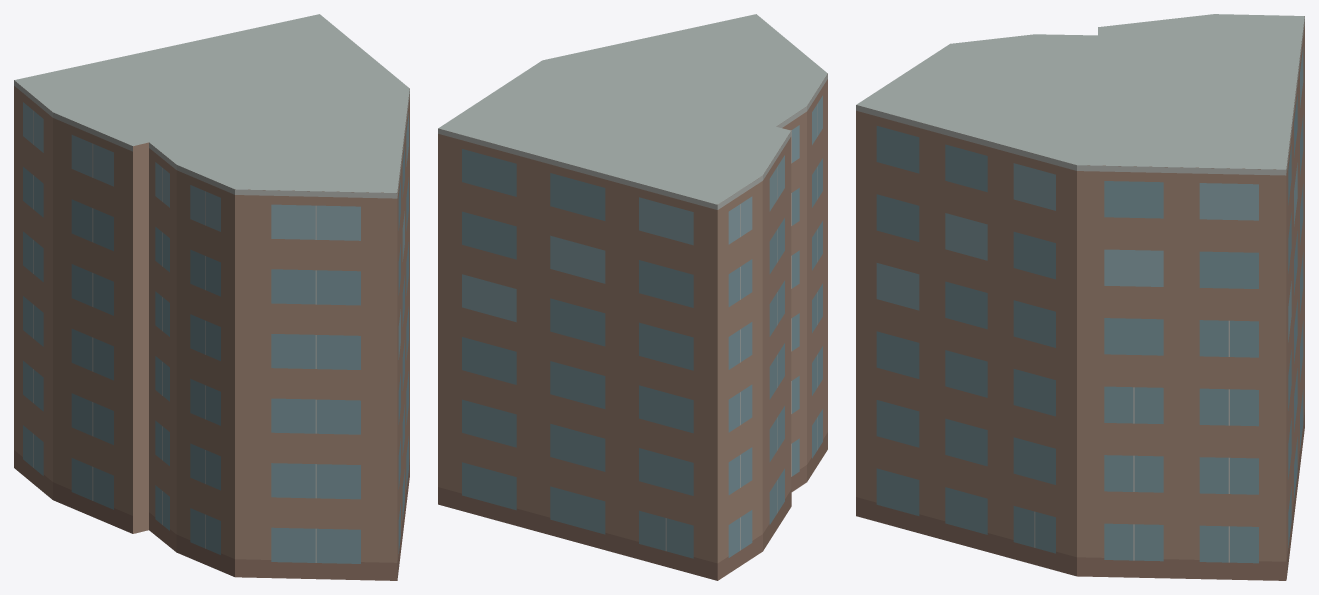
Rendered from survey-upis-32942233.glb.
The picture shows the model from 3 angles, left to right: view 1: azimuth 30°, elevation 25°; view 2: azimuth 150°, elevation 25°; view 3: azimuth 270°, elevation 25°; orthographic projection. The views are drawn at different scales.
Visible parts, largest first — view 1: survey-upis-32942233.tmp; view 2: survey-upis-32942233.tmp; view 3: survey-upis-32942233.tmp.
Boxes of the visible parts, x1,y1,x2,y2 form: survey-upis-32942233.tmp: [14, 14, 409, 580]; survey-upis-32942233.tmp: [438, 14, 827, 580]; survey-upis-32942233.tmp: [856, 14, 1304, 580].
Bounding box in the file's own units: 13.97 × 17.2 × 17.02.
